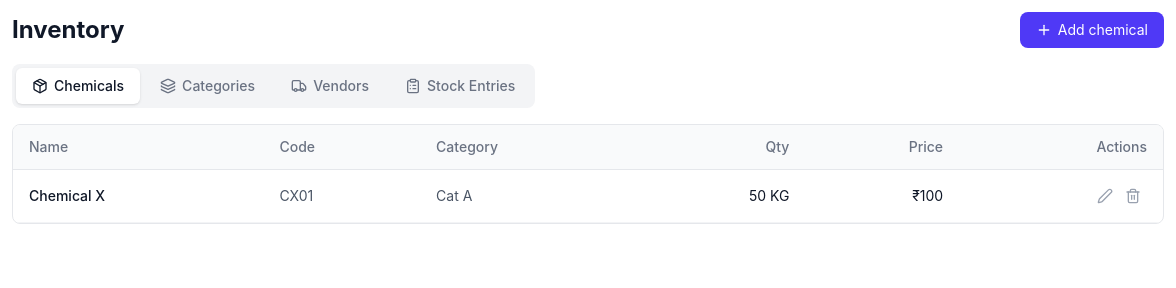
Inventory › with loaded data › Categories tab › shows empty state
Check: the heading "Inventory" is shown, box x1=12 y1=14 x2=124 y2=46
Click the button "Categories": point(208, 86) x1=144 y1=68 x2=271 y2=104
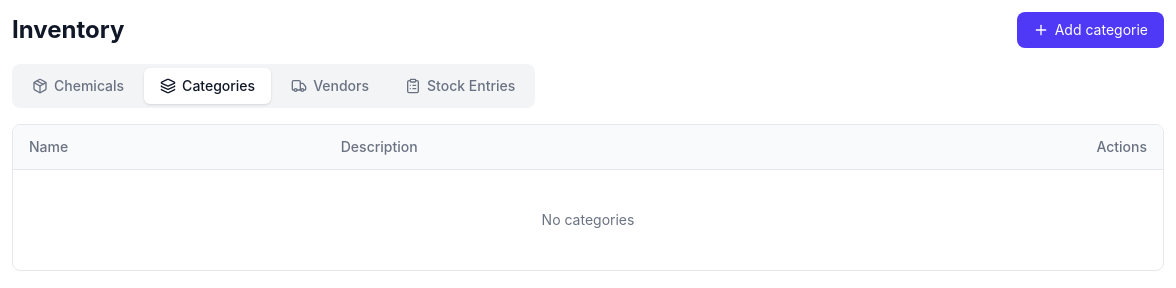
Check: the text "No categories" is shown, box x1=13 y1=170 x2=1163 y2=270
